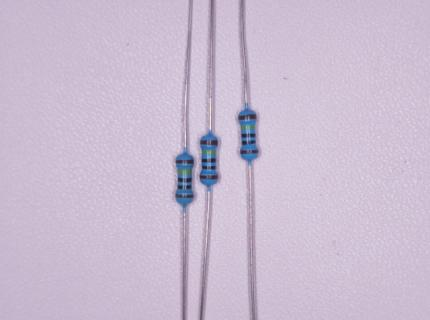Black band: (202, 158, 216, 163), (242, 133, 255, 138), (178, 178, 192, 182), (242, 141, 256, 145), (178, 185, 191, 189), (202, 166, 216, 169)
Brown band: (239, 114, 256, 120), (200, 140, 218, 145), (200, 175, 217, 180), (176, 194, 194, 198), (241, 150, 259, 154), (176, 160, 193, 164)
Yellow band: (241, 125, 256, 130), (178, 170, 192, 175), (202, 150, 216, 154)
